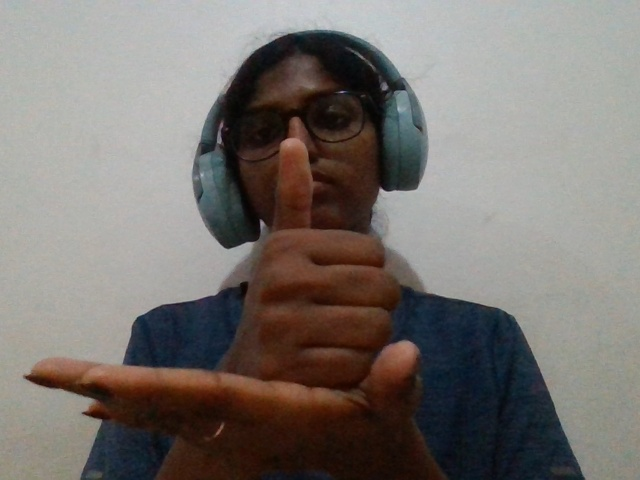Help: (9, 133, 471, 478)
